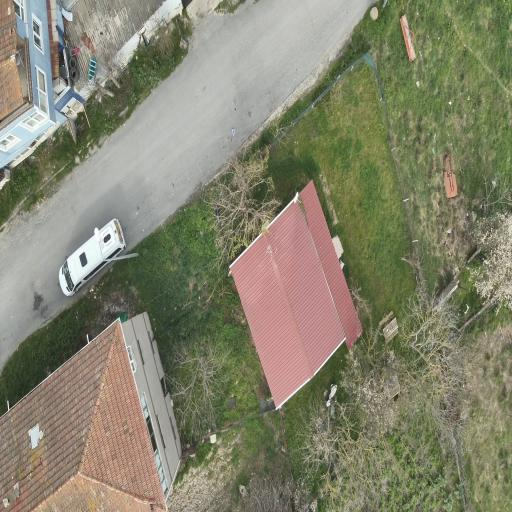car: (59, 219, 126, 296)
